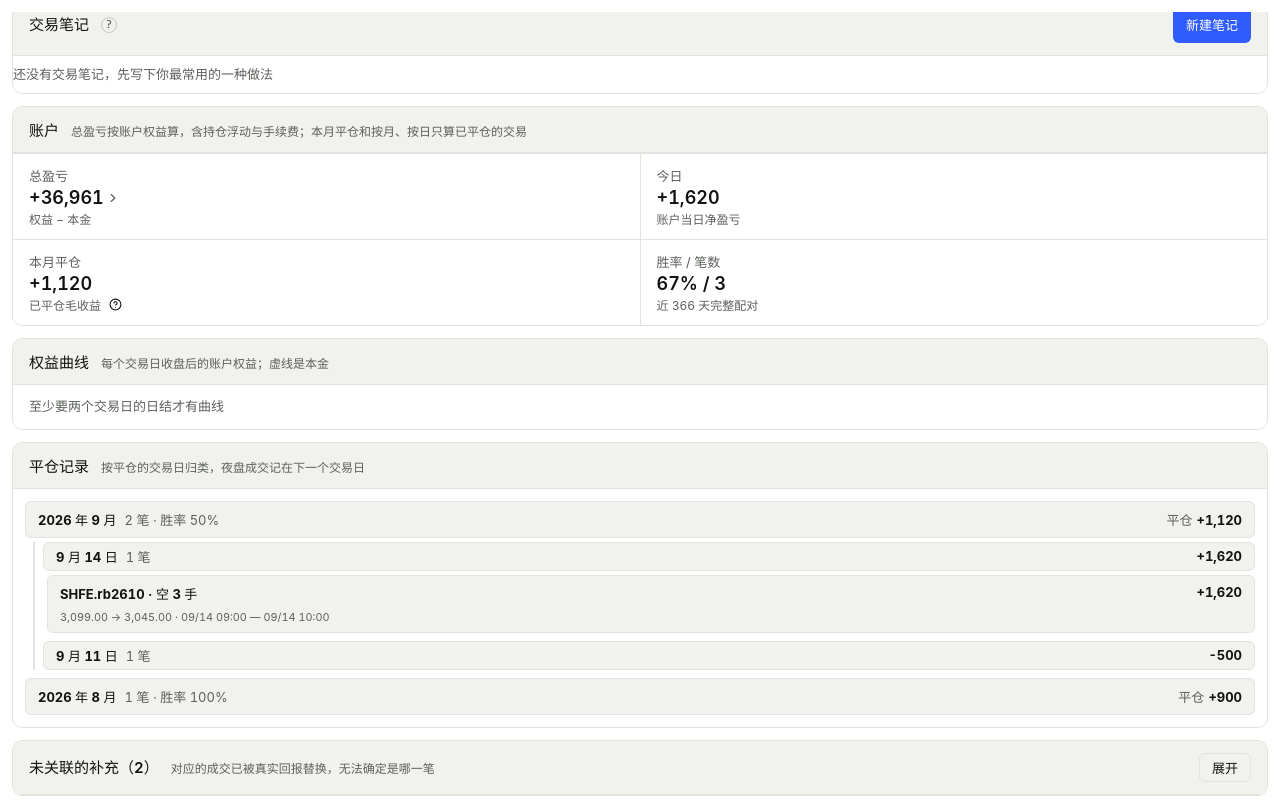
Test: 未关联的补充: folded at the end with text, source and time, deletes under the old key; none shows nothing
(page scrolled)
Expected: the heading "未关联的补充（2）" is shown, [29,756,159,777]
Expected: the text "对应的成交已被真实回报替换，无法确定是哪一笔" is shown, [171,759,435,776]
Click the button with aria-label "展开未关联的补充": [1225, 767] box [1199,753,1251,782]
(page scrolled)
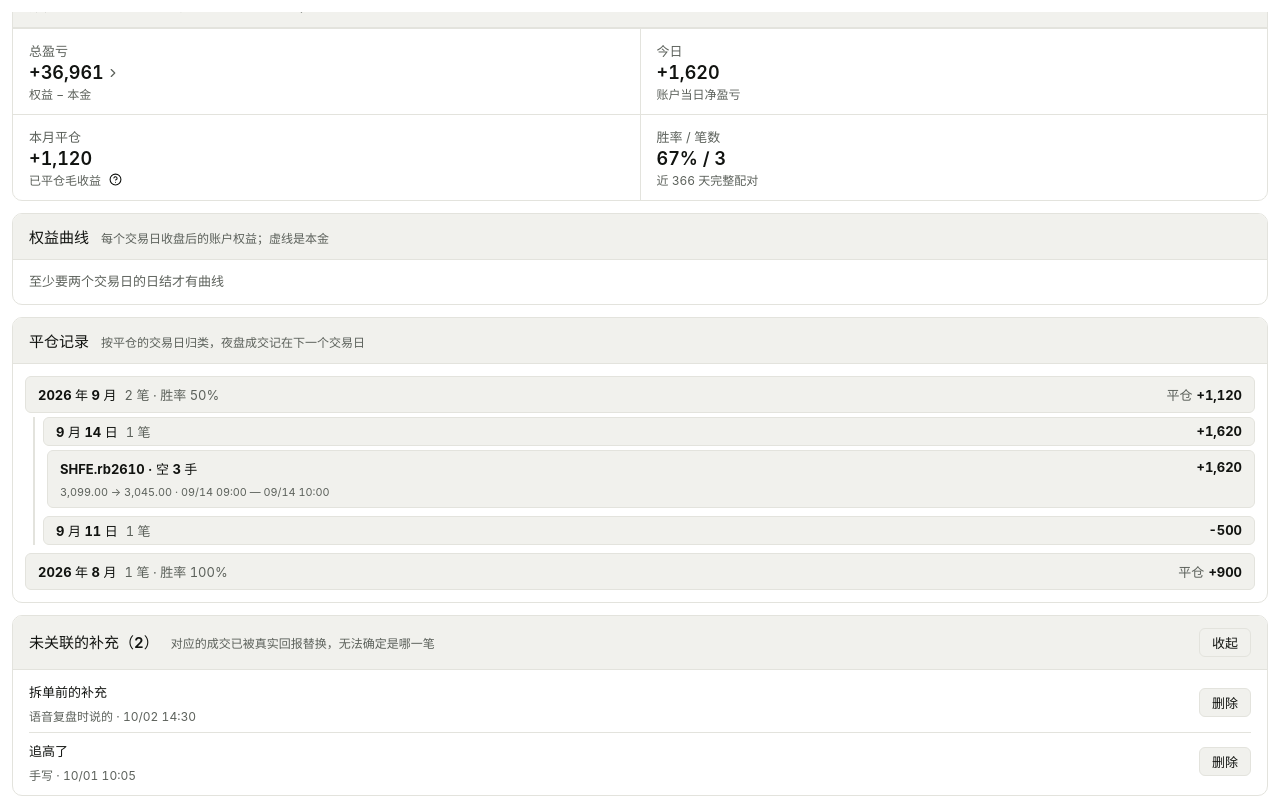
Result: the text "拆单前的补充" is shown at [29,684,107,700]
Result: the text "语音复盘时说的 · 10/02 14:30" is shown at [29,709,196,724]
Result: the text "手写 · 10/01 10:05" is shown at [29,768,136,782]
Click the button with aria-label "删除未关联的补充：拆单前的补充": [1225, 703] box [1199,688,1251,717]
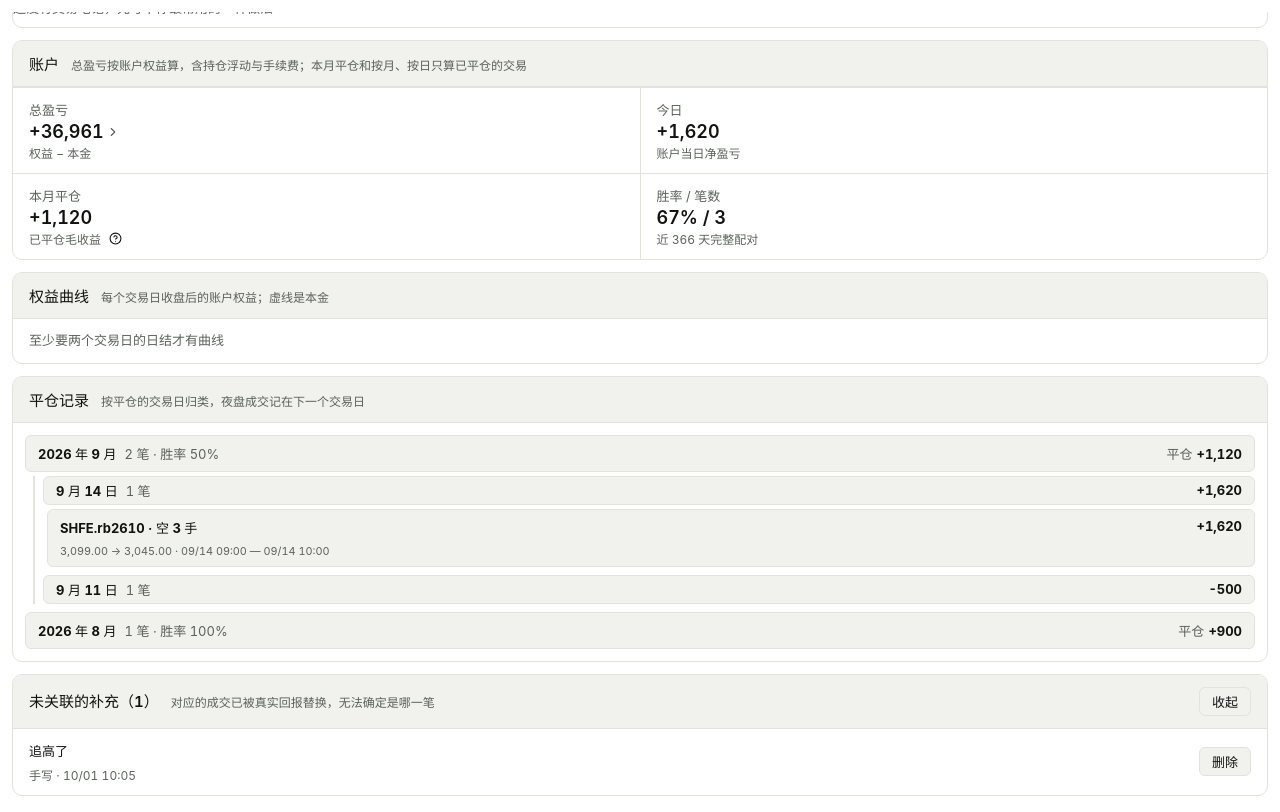
Result: the text "拆单前的补充" is gone
Result: the heading "未关联的补充（1）" is shown at [29,690,159,711]
Click the button with aria-label "删除未关联的补充：追高了": [1225, 762] box [1199,747,1251,776]
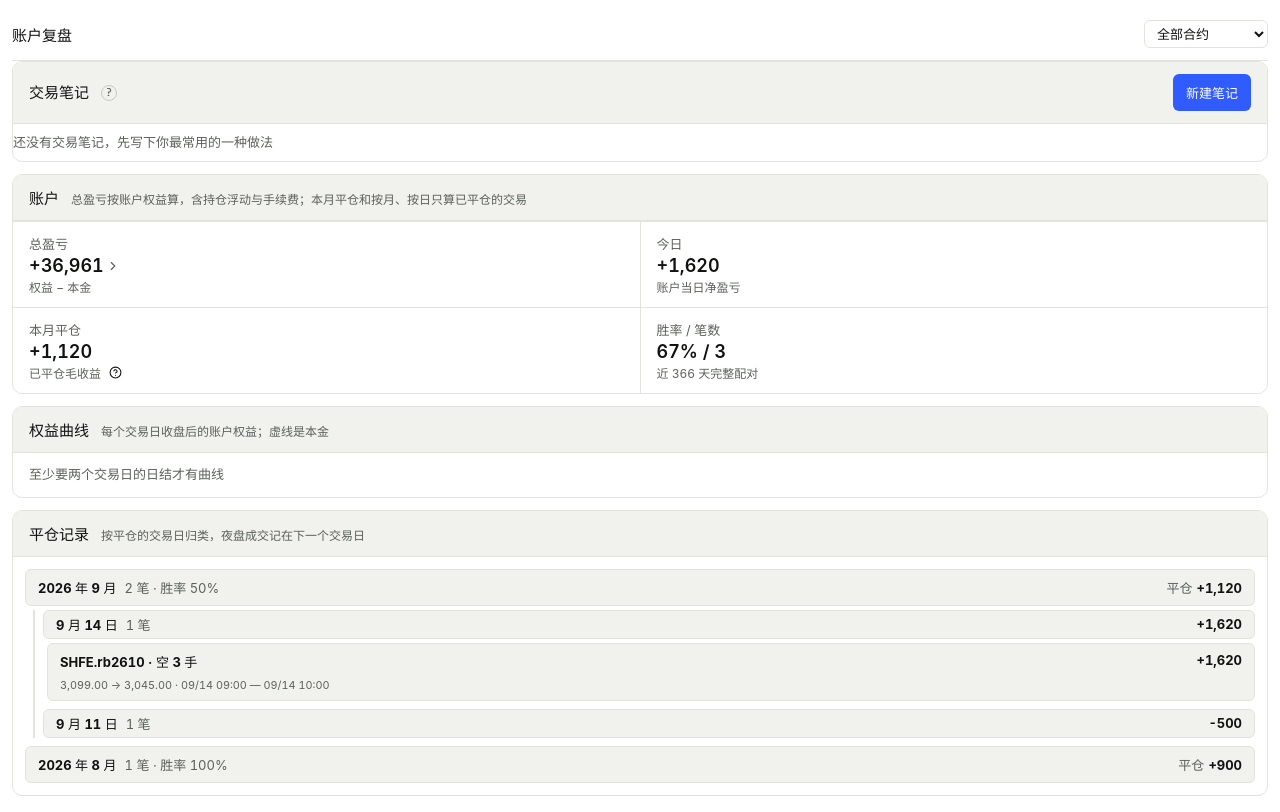
Result: the heading "未关联的补充" is gone
